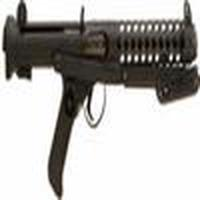gun: (1, 7, 200, 137)
